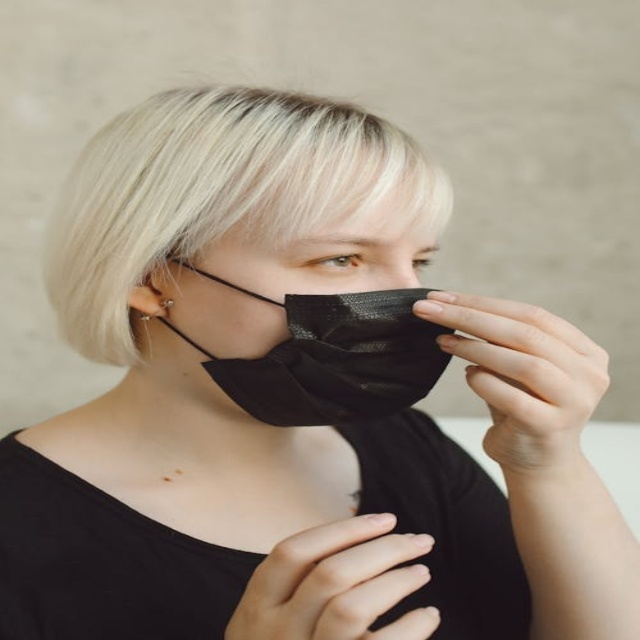Mascara: (152, 261, 457, 428)
Sin_gafas: (224, 236, 447, 274)
Sin_guantes: (414, 289, 614, 478), (224, 509, 437, 639)
